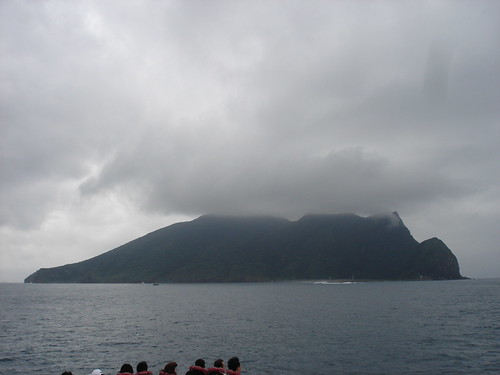turtleIsland: (22, 214, 462, 279)
